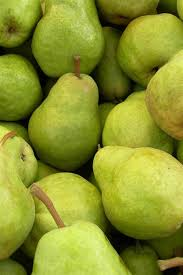pear: (91, 147, 183, 241), (28, 1, 106, 79), (33, 76, 99, 166)
